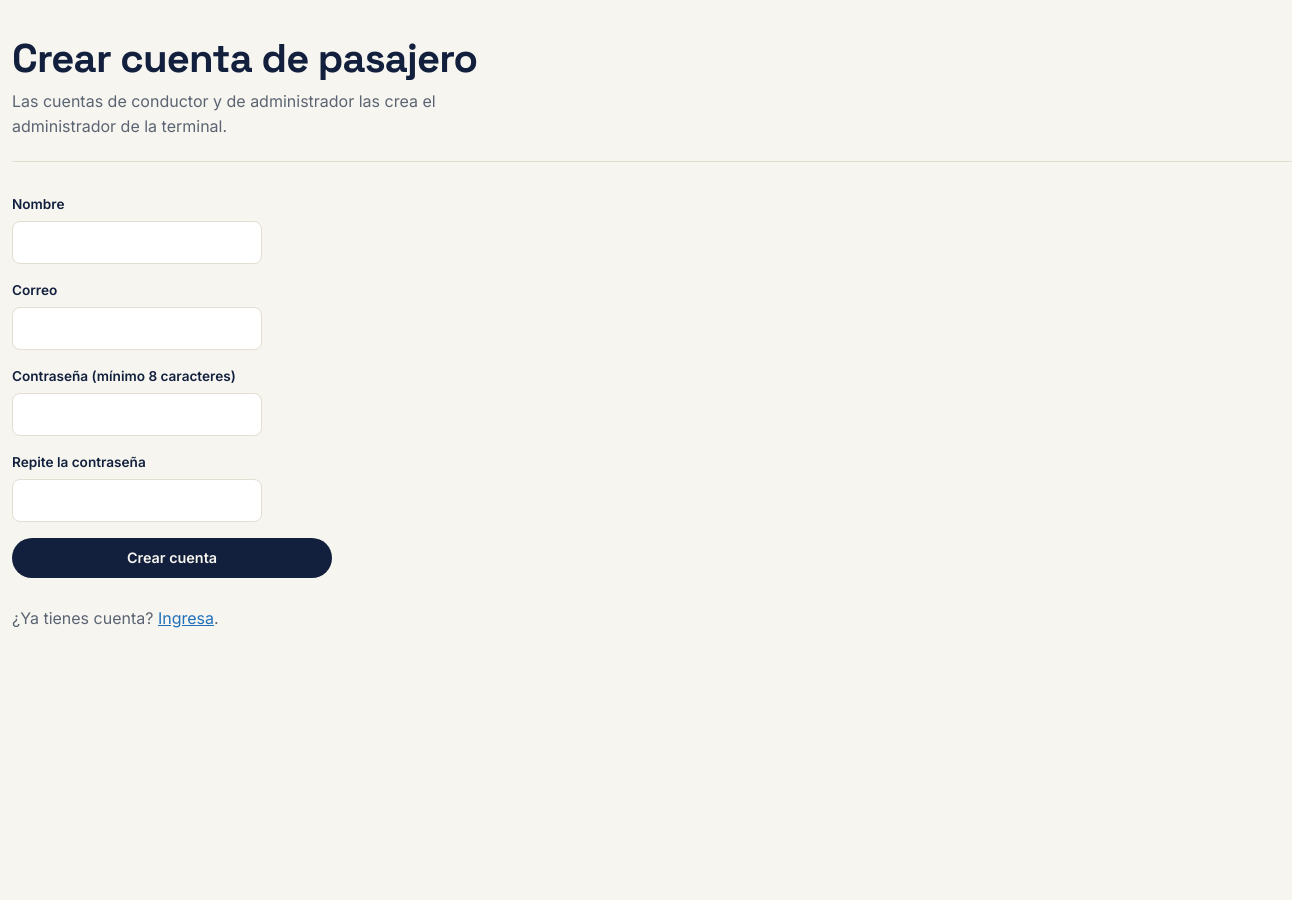
Test: Registro › no envía si las contraseñas no coinciden
Type "Paula Pasajera" into the field labelled "Nombre" at x=137, y=242, box [12,221,262,264]
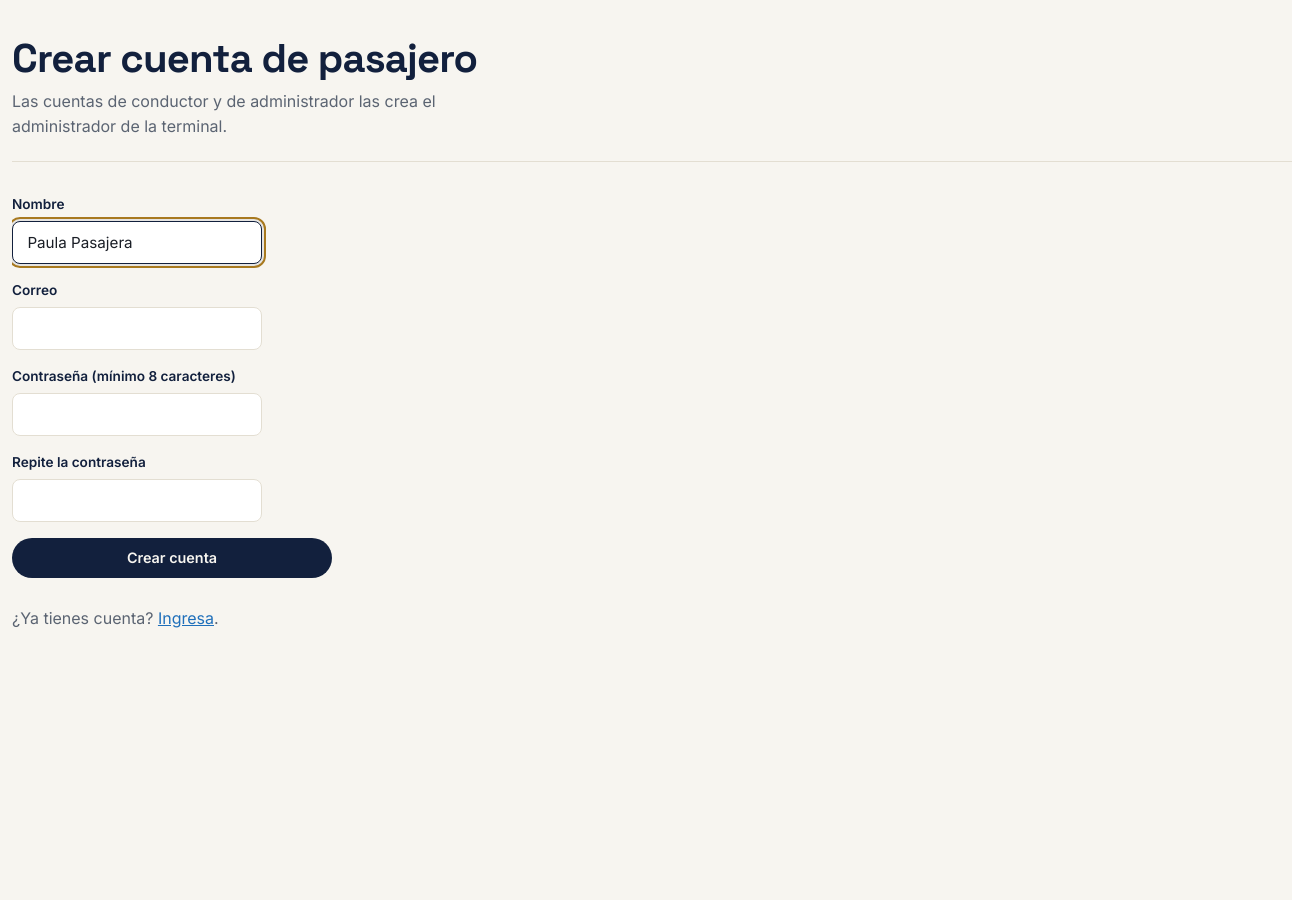
Type "paula@correo.cl" into the field labelled "Correo" at x=137, y=329, box [12,307,262,350]
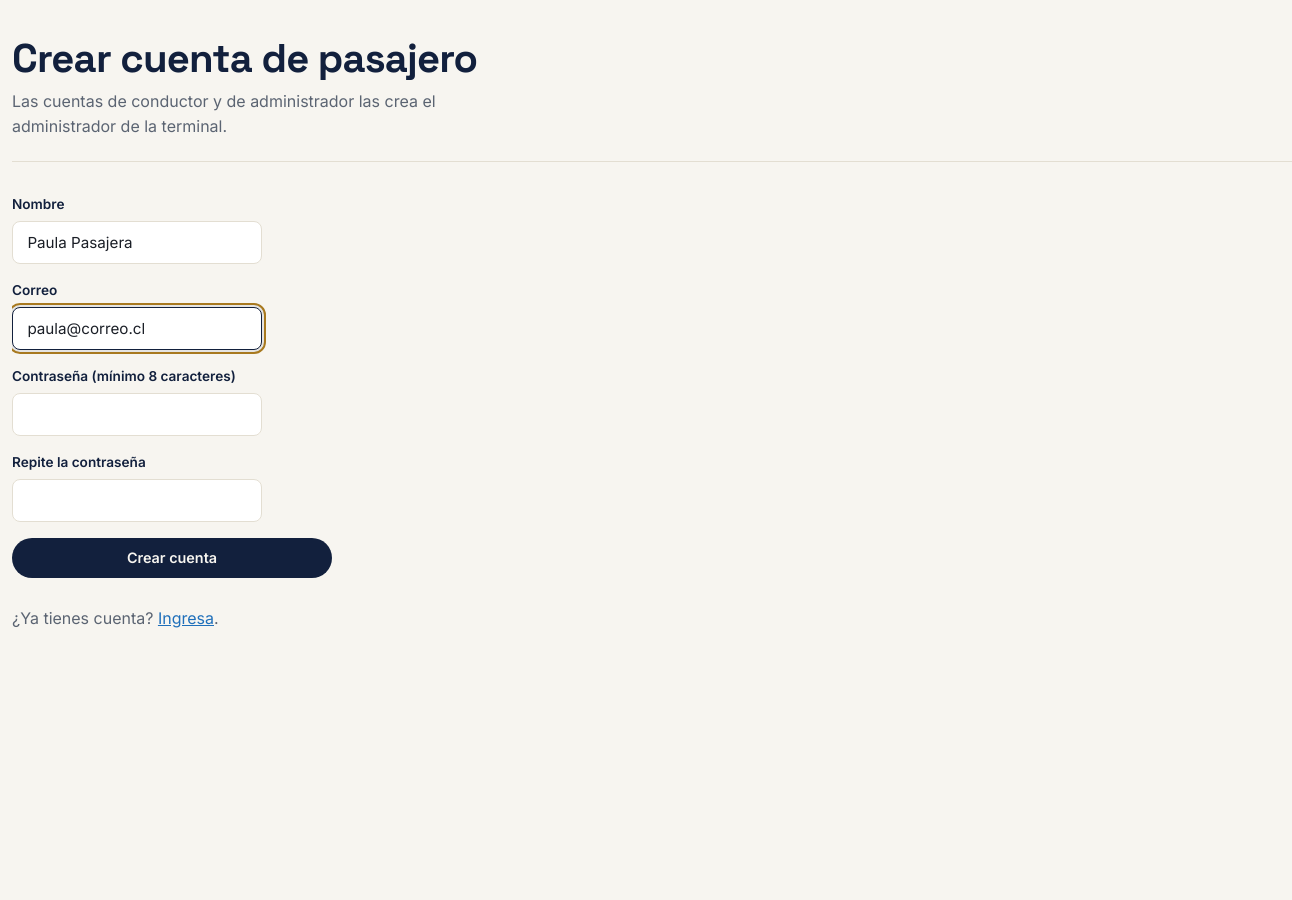
Type "clave-larga-1" into the password field labelled "Contraseña (mínimo 8 caracteres)" at x=137, y=415, box [12,393,262,436]
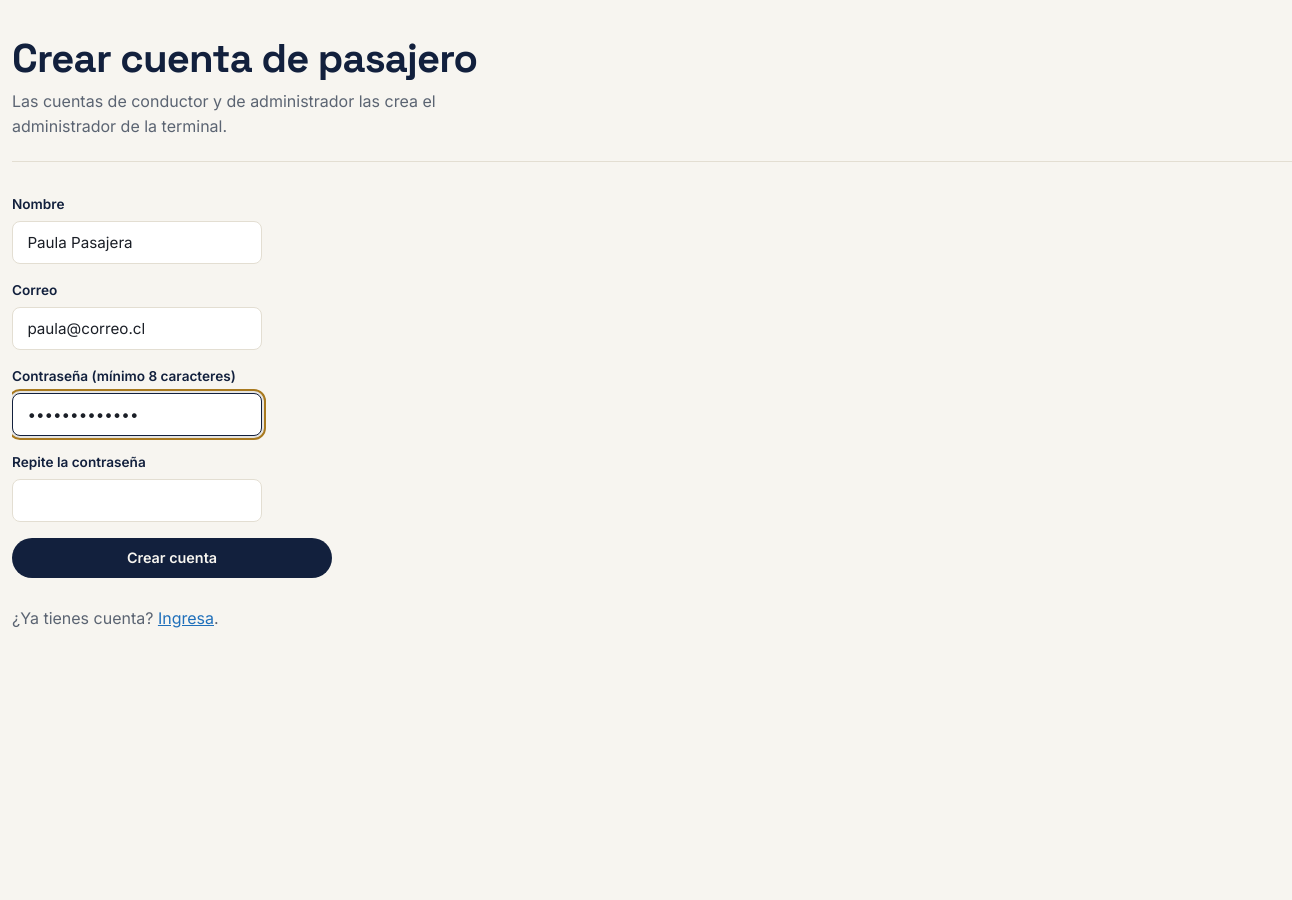
Type "clave-larga-2" into the password field labelled "Repite la contraseña" at x=137, y=501, box [12,479,262,522]
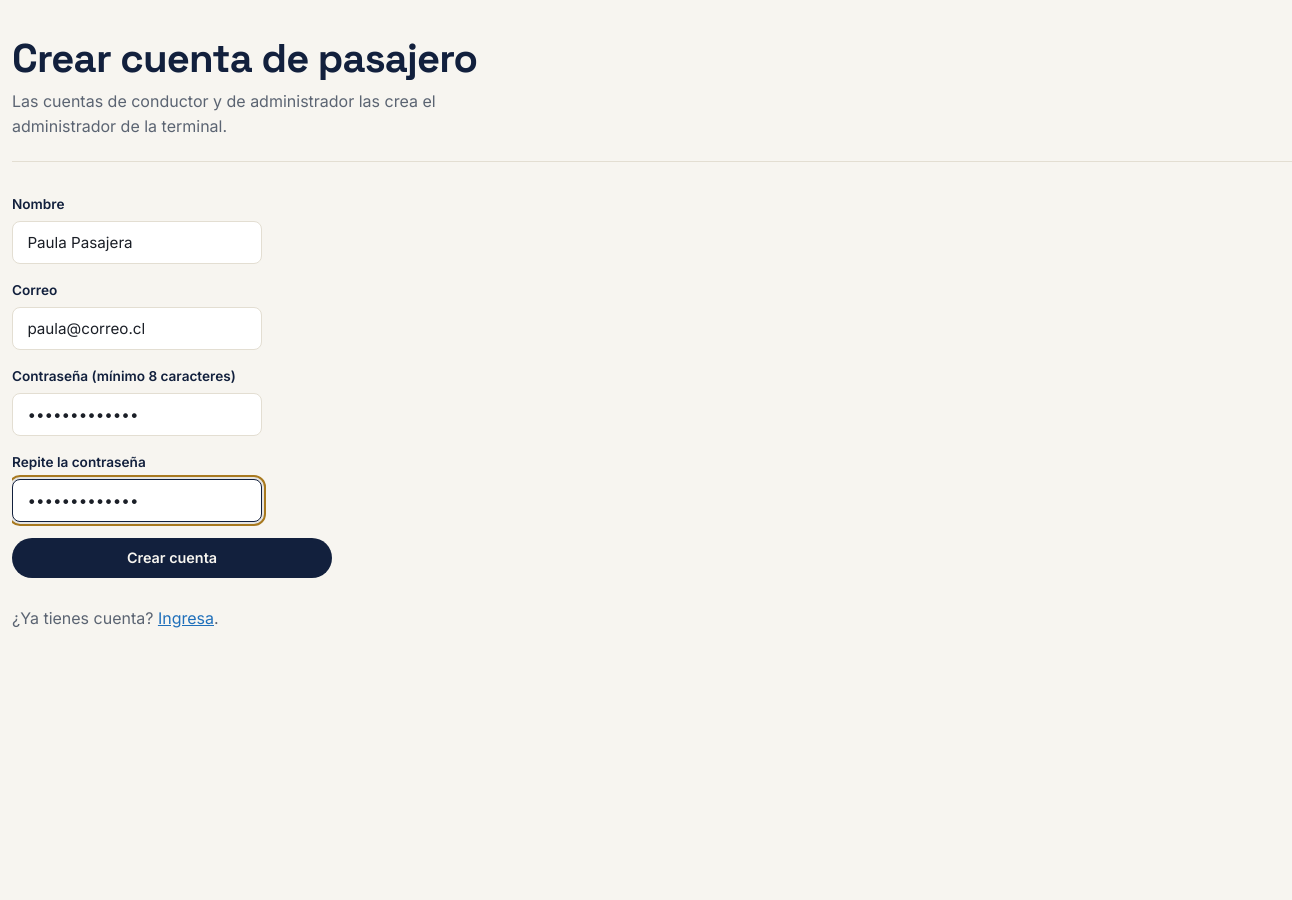
Click the button "Crear cuenta" at x=172, y=558, box [12,538,332,578]
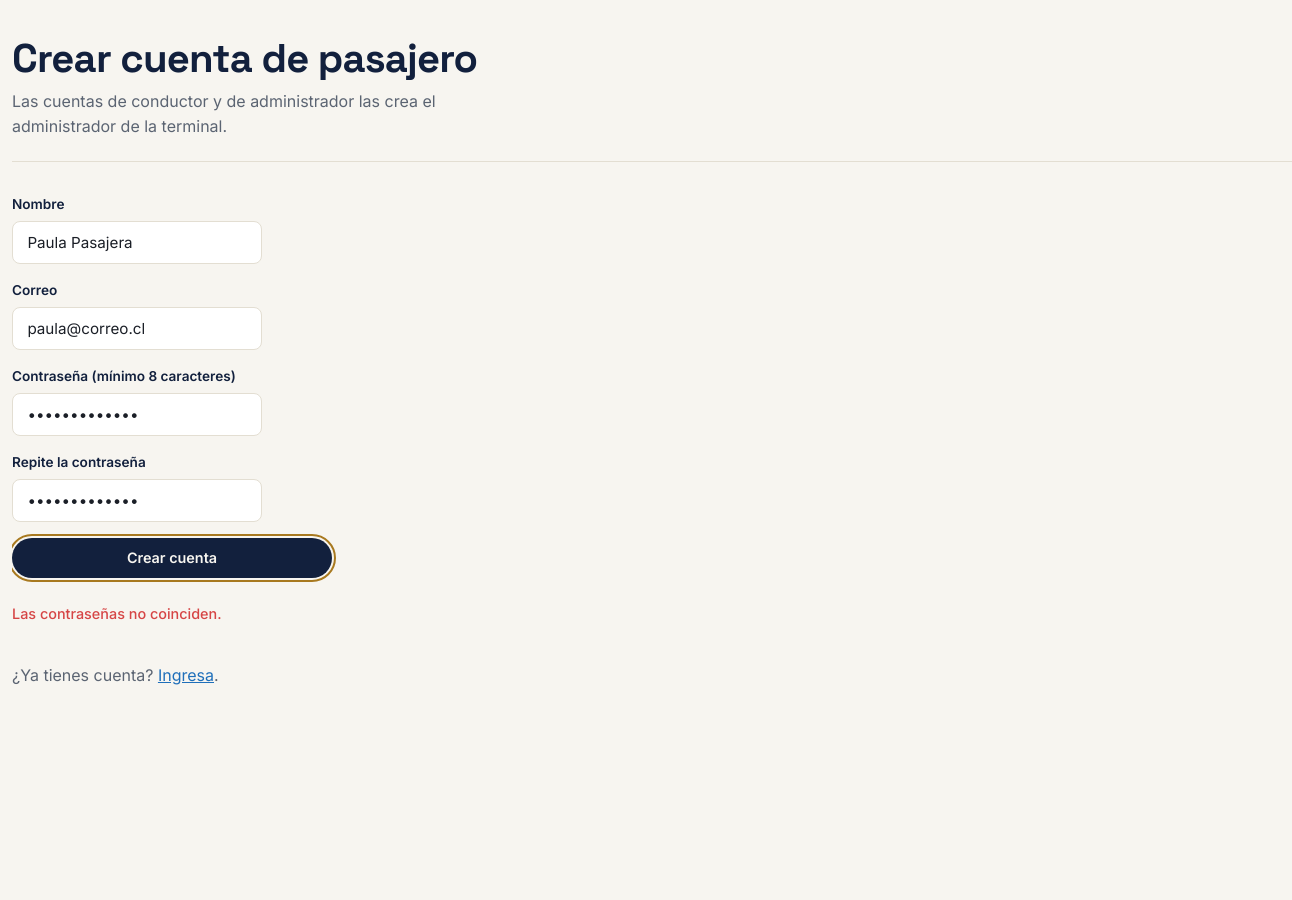
Result: the message shows "no coinciden" at [12,605,222,622]
